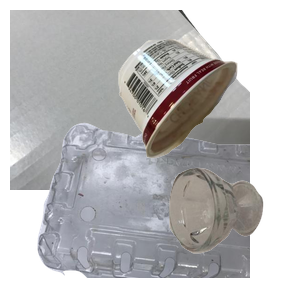cardboard: (10, 10, 250, 190)
glass: (166, 165, 300, 300)
plastic: (35, 120, 275, 300)
trash: (116, 36, 300, 187)
